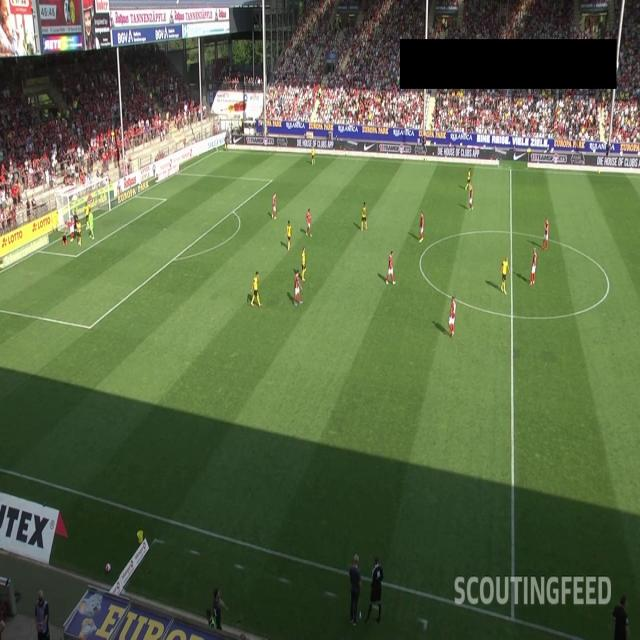player: (250, 270, 262, 306), (448, 293, 457, 334), (386, 248, 395, 288), (528, 246, 537, 283), (293, 268, 302, 304), (500, 257, 508, 297), (305, 204, 313, 238), (66, 217, 76, 244), (419, 208, 426, 244), (270, 192, 277, 225), (302, 246, 308, 284), (88, 209, 95, 238), (286, 219, 292, 251), (465, 166, 472, 192), (76, 219, 82, 248), (545, 216, 550, 250), (361, 201, 367, 229), (468, 188, 474, 213), (84, 201, 90, 226), (310, 147, 316, 163), (63, 229, 68, 245)
